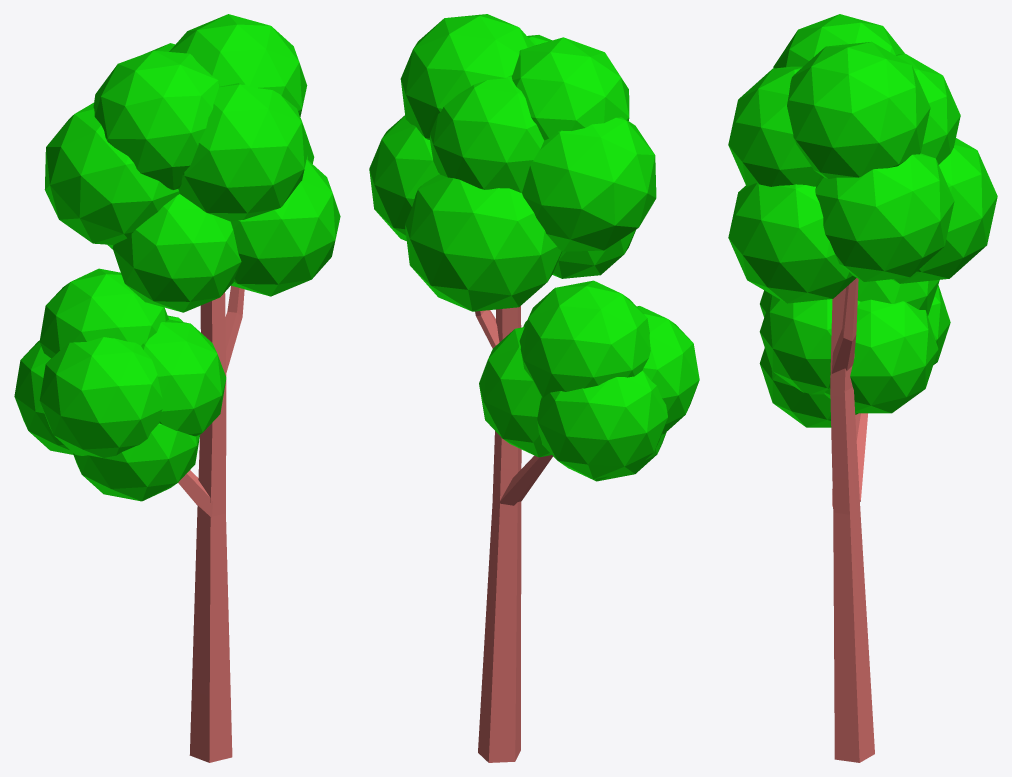
File: tree_2.fbx
3 views of the same model, side by side, from view 1: azimuth 30°, elevation 25°; view 2: azimuth 150°, elevation 25°; view 3: azimuth 270°, elevation 25° (orthographic).
Visible parts, largest first — view 1: tree, tree.001; view 2: tree, tree.001; view 3: tree, tree.001.
Boxes of the visible parts, x1,y1,x2,y2 form: tree: (14, 14, 340, 501); tree.001: (178, 285, 244, 762); tree: (369, 14, 699, 481); tree.001: (475, 306, 552, 762); tree: (728, 14, 997, 427); tree.001: (830, 278, 874, 762).
Bounding box in the file's own units: 2.23 × 5.54 × 1.88.
